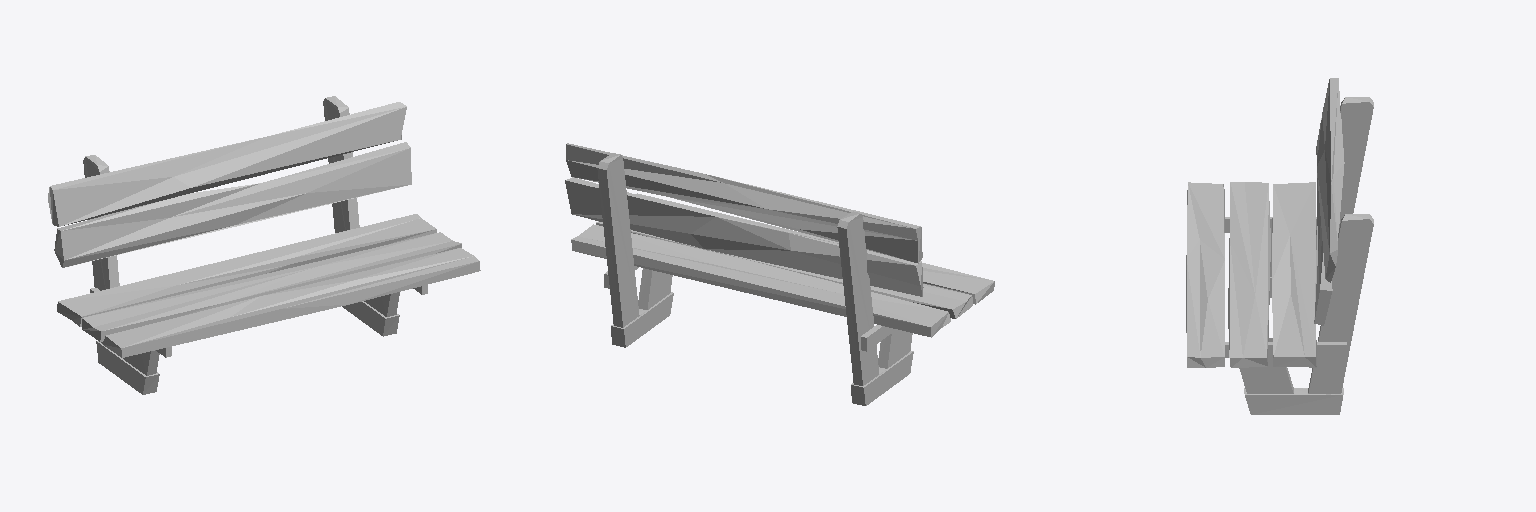
File: bench2.obj
The picture shows the model from 3 angles: view 1: azimuth 30°, elevation 25°; view 2: azimuth 150°, elevation 25°; view 3: azimuth 270°, elevation 25°; orthographic projection.
Visible parts, largest first — view 1: Bench; view 2: Bench; view 3: Bench.
Boxes of the visible parts, x1,y1,x2,y2 form: Bench: [48, 96, 480, 394]; Bench: [565, 143, 994, 405]; Bench: [1186, 78, 1373, 414].
Size of the model in its own units: 1.98 by 1.02 by 0.8901.